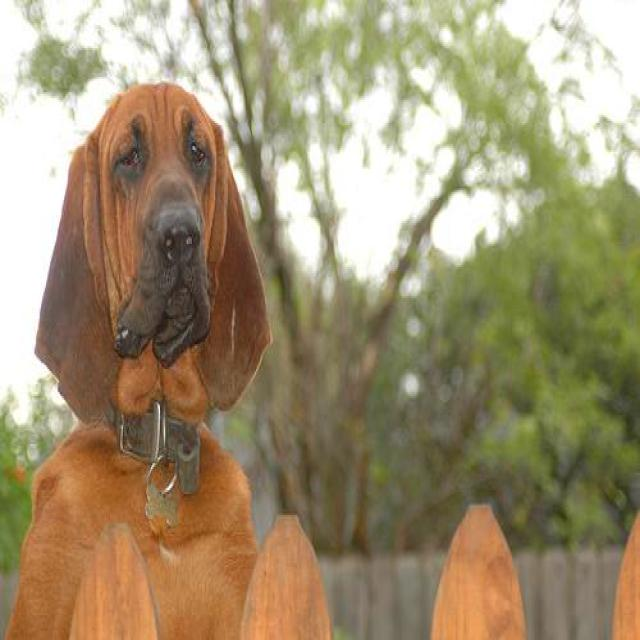bloodhound: (5, 80, 271, 636)
